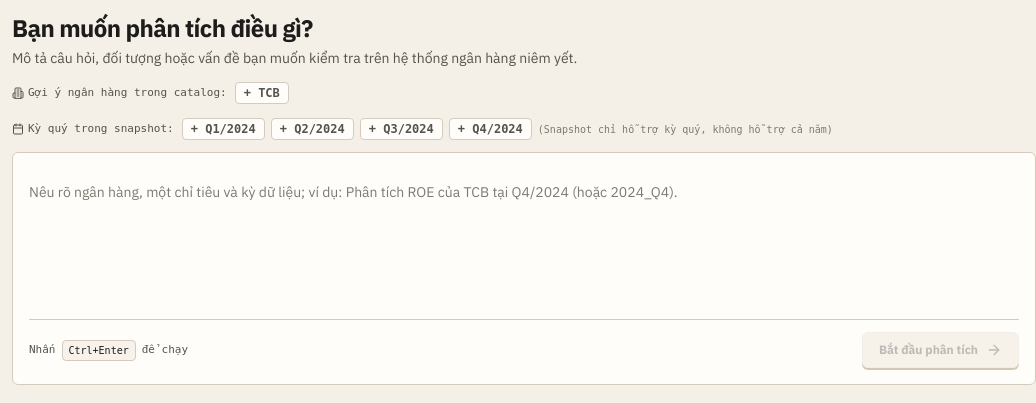
Test: HeroComposer scope cues › adds only the chosen bank and leaves period and metric for the analyst to state
What coordinates should you click on to do the following:
click the button "+ TCB"
I would click on:
 (262, 93)
Its box is top-left (235, 82), bottom-right (289, 104).
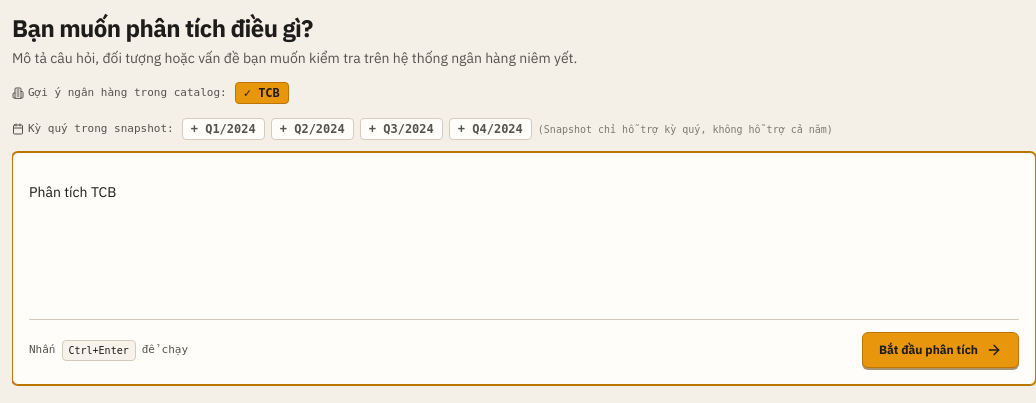
expect the text box named "Câu hỏi phân tích" holds "Phân tích TCB": met, box top-left (29, 181), bottom-right (1019, 301)
